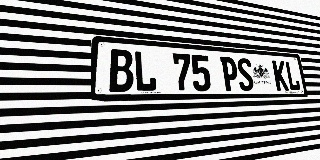5: (191, 54, 212, 91)
7: (171, 53, 193, 91)
B: (109, 49, 134, 92)
K: (272, 60, 289, 91)
L: (133, 50, 157, 92), (284, 61, 301, 91)
P: (220, 56, 239, 91)
S: (236, 58, 255, 91)
